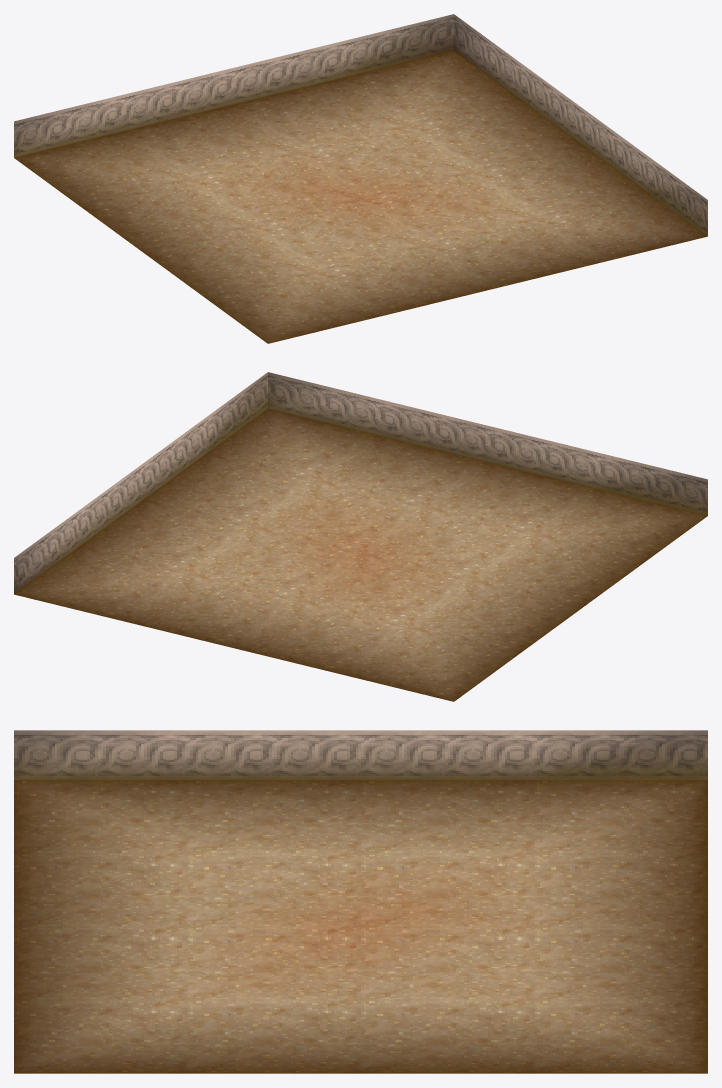
File: map.glb
The picture shows the model from 3 angles, top to bottom: view 1: azimuth 30°, elevation 25°; view 2: azimuth 150°, elevation 25°; view 3: azimuth 270°, elevation 25°; orthographic projection. The views are drawn at different scales.
Visible parts, largest first — view 1: Plane; view 2: Plane; view 3: Plane.
Boxes of the visible parts, x1,y1,x2,y2 form: Plane: (14, 14, 707, 343); Plane: (14, 372, 707, 701); Plane: (14, 730, 707, 1073).
Size of what is drawn, in the model's own units: 16 by 1.27 by 16.
Materials: 2 (2 with a texture image).
